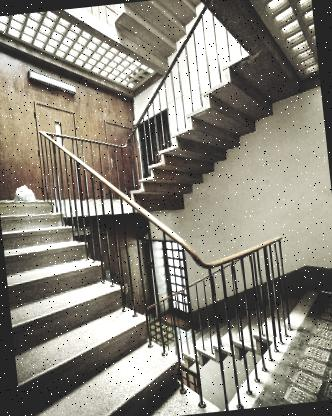stair: (9, 285, 151, 416)
